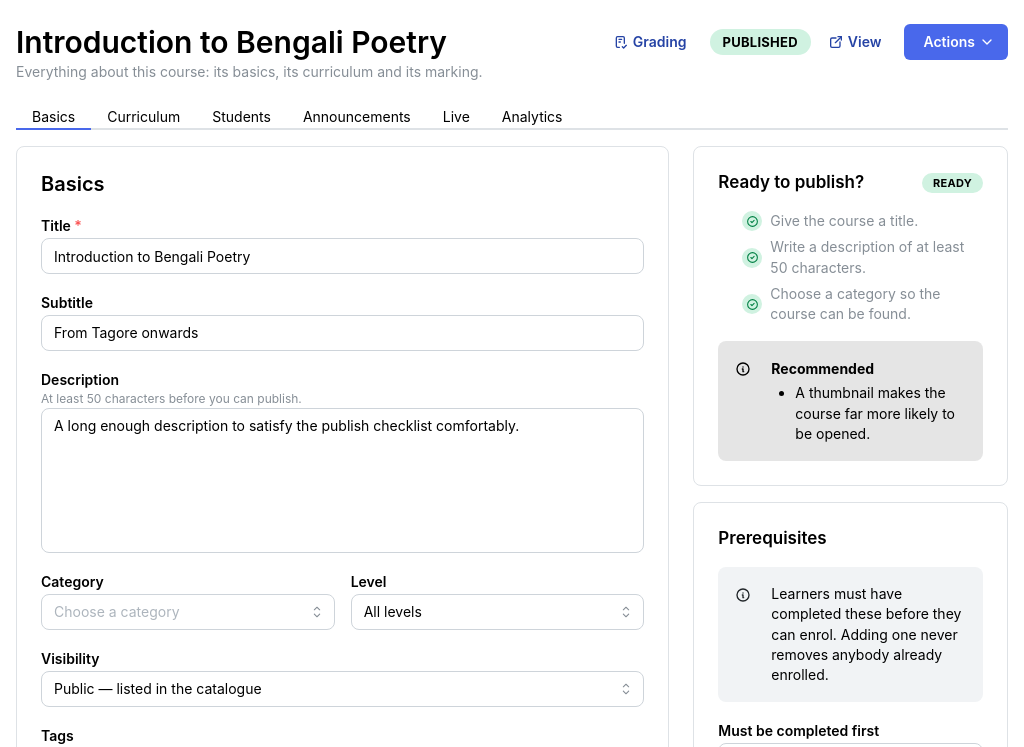
Test case: CourseEditorRoute › offers only the transitions the server allows
Click the button "Actions".
click(956, 42)  # box x1=904 y1=24 x2=1008 y2=60
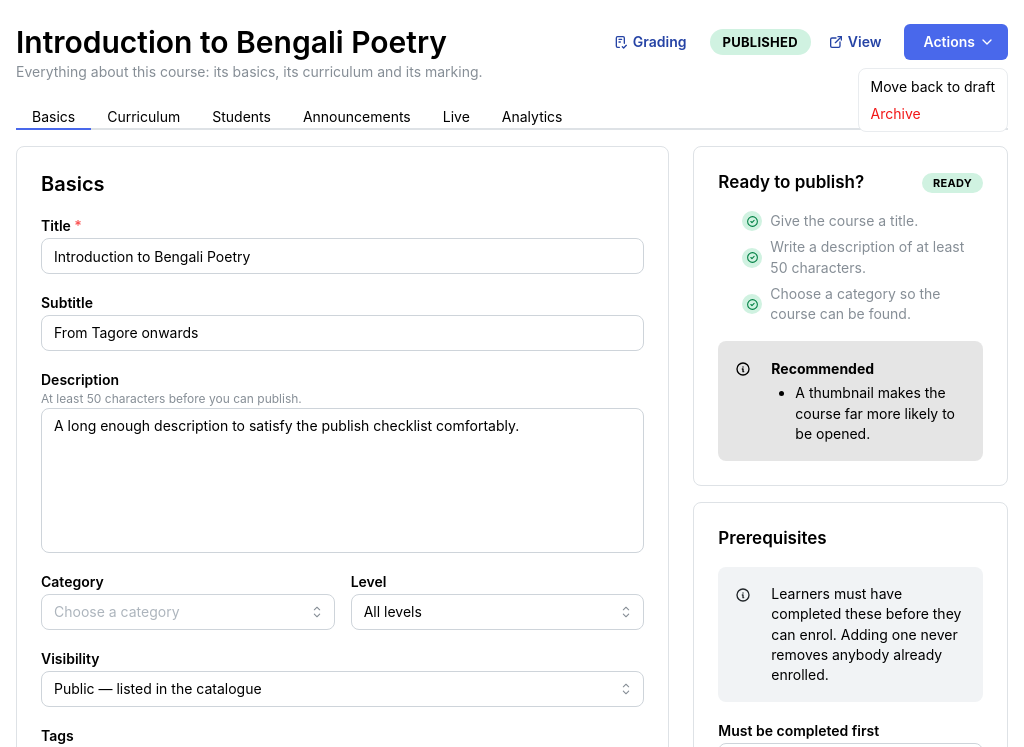
Result: the menu item "Move back to draft" is shown at x1=863 y1=73 x2=1003 y2=100
